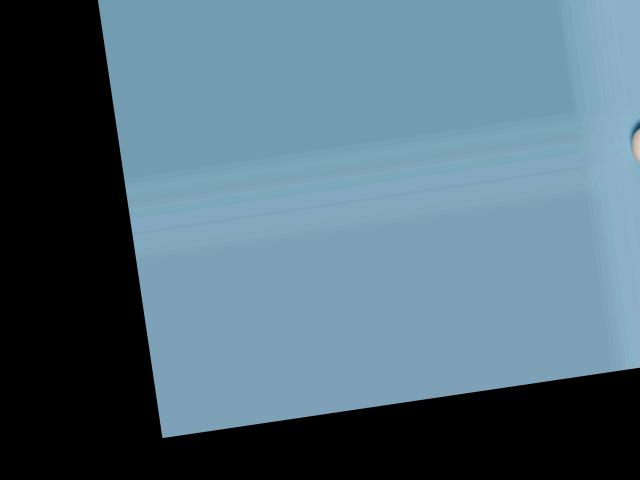egg: (629, 124, 640, 168)
